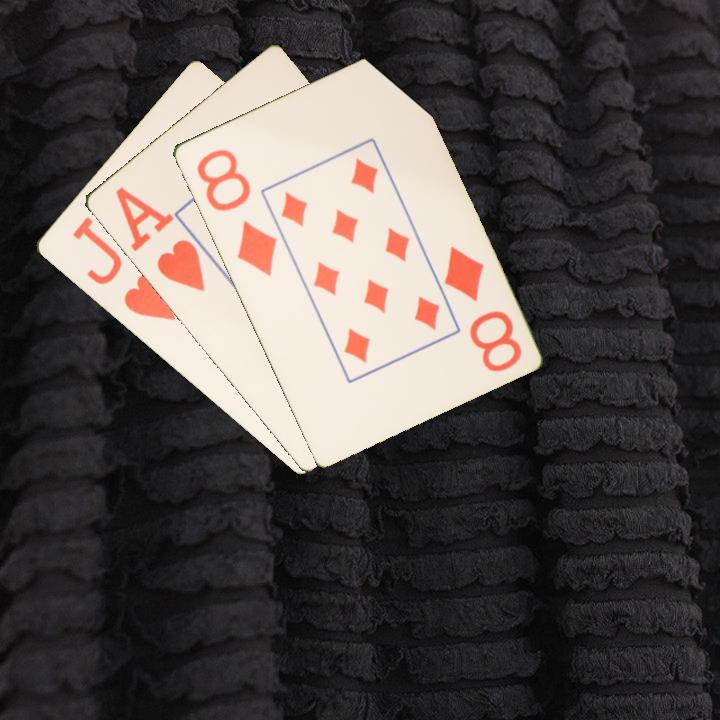8d: (192, 145, 280, 279), (439, 242, 525, 375)
Ah: (111, 183, 208, 295)
Jh: (68, 213, 179, 324)
